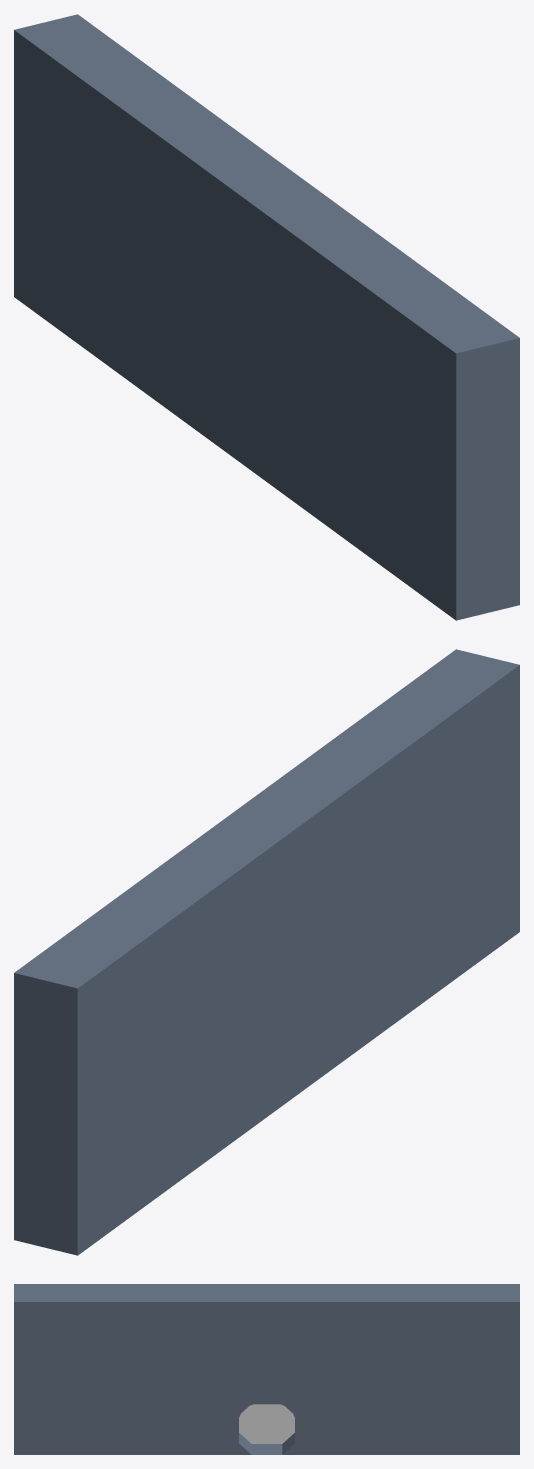
File: endpoint.glb
3 renders of one model, top to bottom at view 1: azimuth 30°, elevation 25°; view 2: azimuth 150°, elevation 25°; view 3: azimuth 270°, elevation 25°, orthographic. The views are drawn at different scales.
Parts seen in each view (by area): view 1: Cube; view 2: Cube; view 3: Cube.
Boxes of the visible parts, x1,y1,x2,y2 form: Cube: (14, 14, 519, 620); Cube: (14, 649, 519, 1255); Cube: (14, 1284, 519, 1454).
Bounding box in the file's own units: 0.5 × 2 × 6.
